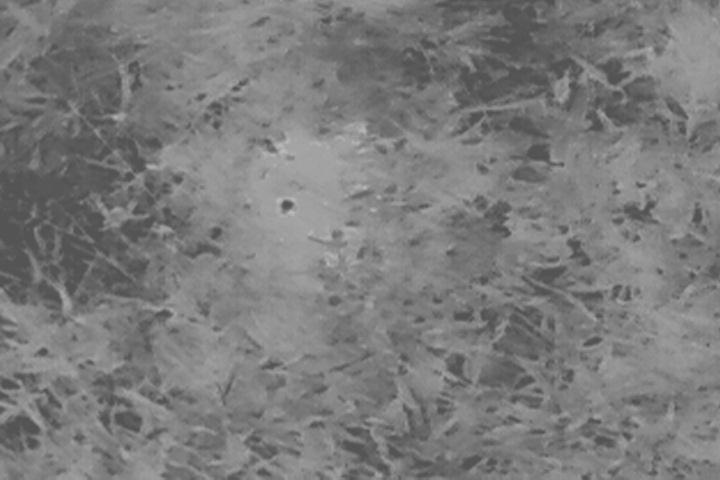landmine: (219, 97, 387, 279)
